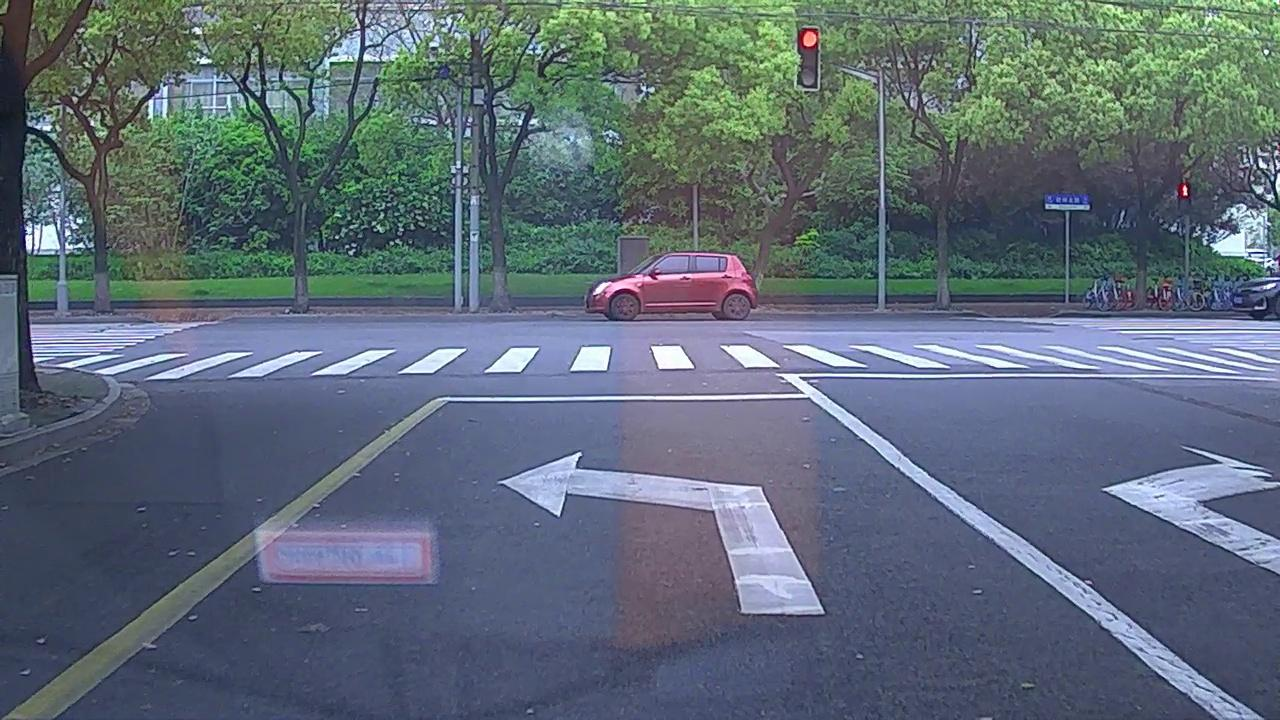traffic_light: (798, 25, 818, 88)
